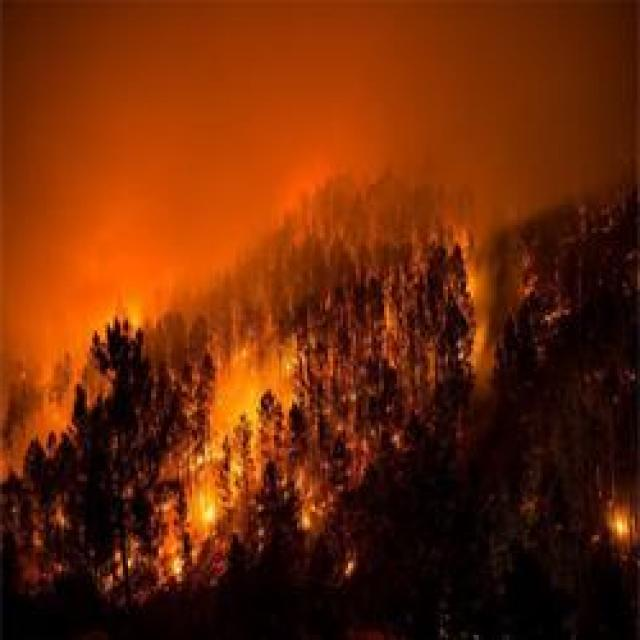fire: (226, 354, 267, 401), (462, 222, 480, 278), (471, 316, 489, 368), (613, 506, 635, 536), (125, 300, 149, 324), (200, 494, 214, 520), (170, 552, 183, 574)
smoke: (23, 80, 134, 245), (464, 36, 583, 172), (192, 59, 286, 195)
